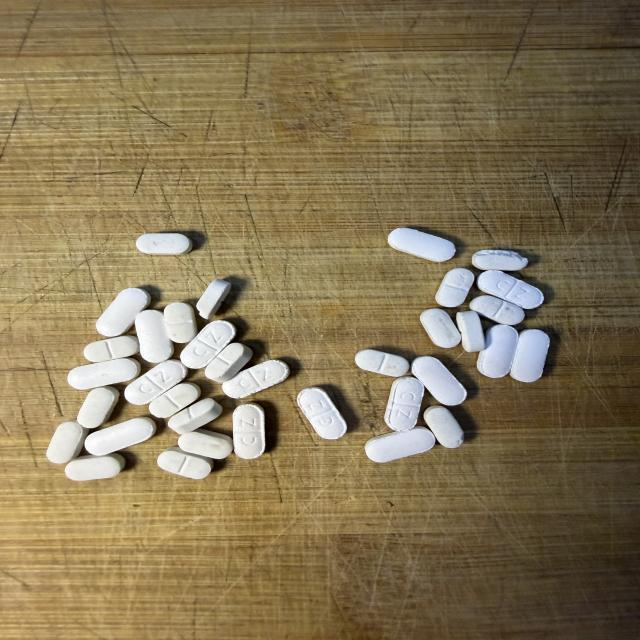pill: (125, 360, 187, 405), (85, 417, 155, 455), (412, 357, 466, 405), (96, 288, 150, 336), (181, 321, 236, 368), (297, 387, 346, 439), (222, 360, 289, 398), (477, 271, 543, 309), (365, 427, 435, 462), (388, 228, 455, 262), (68, 358, 140, 389), (477, 325, 518, 378), (385, 377, 424, 431), (510, 329, 549, 382), (135, 310, 173, 363), (168, 398, 222, 434), (205, 343, 252, 383), (149, 383, 200, 418), (233, 404, 265, 459), (158, 447, 213, 479), (77, 387, 119, 428), (47, 422, 88, 463), (424, 406, 464, 448), (178, 429, 233, 459), (65, 453, 125, 480), (420, 309, 460, 348), (470, 296, 524, 324), (436, 268, 474, 307), (355, 350, 409, 377), (84, 336, 139, 362), (197, 279, 231, 319), (164, 303, 197, 343), (472, 250, 528, 271), (136, 234, 192, 255), (457, 311, 485, 352)
